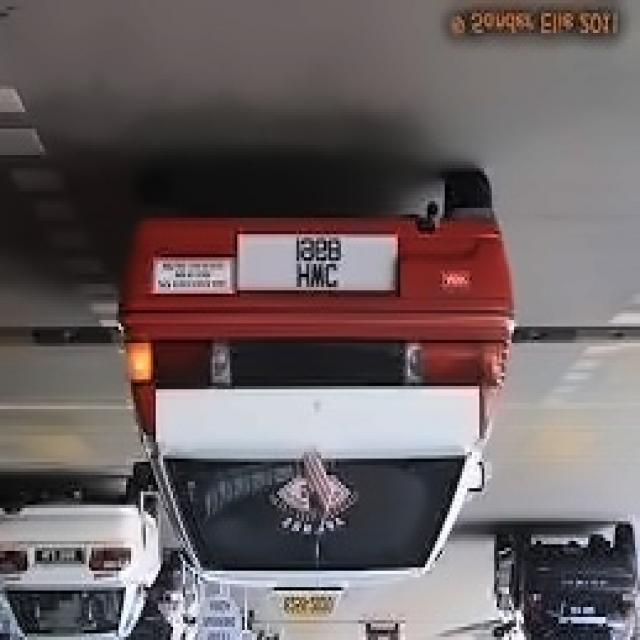car-plate: (234, 231, 398, 298), (36, 545, 88, 568), (562, 600, 607, 619)
